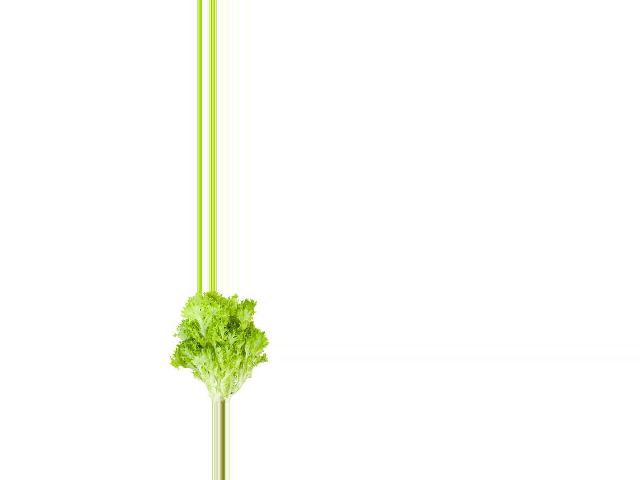lettuce: (169, 292, 273, 403)
